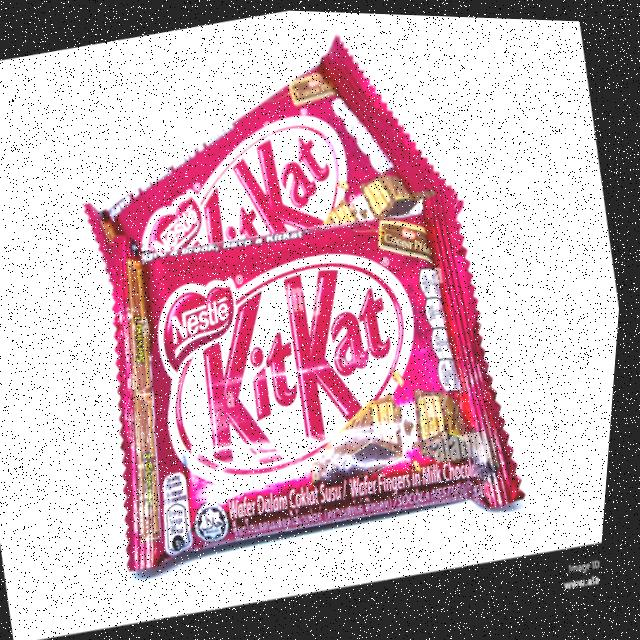kitkat: (73, 172, 548, 581), (49, 5, 490, 326)
